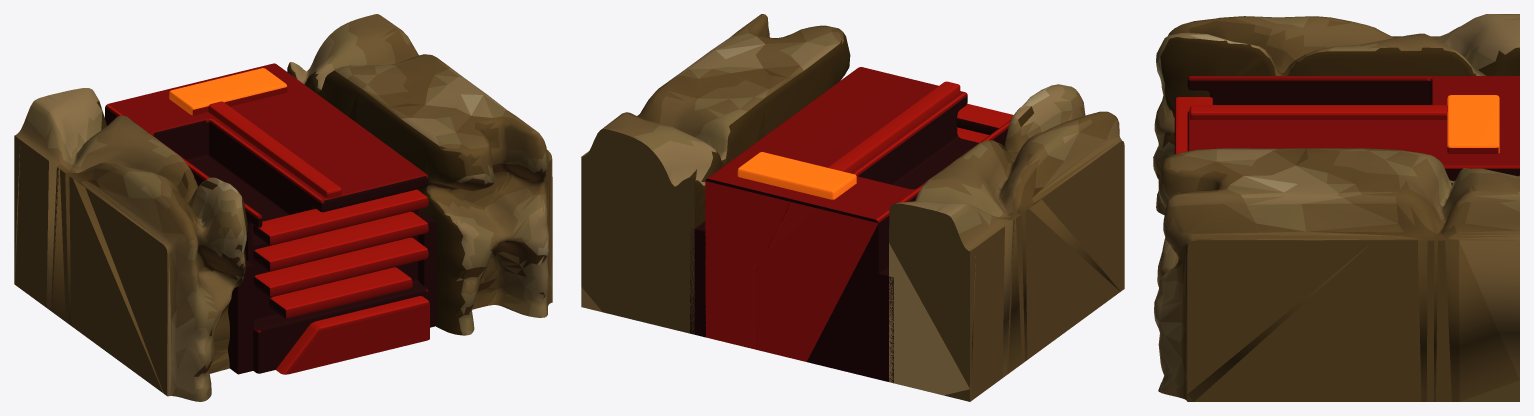
Rendered from ixm_wall_slot_mid.glb.
The picture shows the model from 3 angles, left to right: view 1: azimuth 30°, elevation 25°; view 2: azimuth 150°, elevation 25°; view 3: azimuth 270°, elevation 25°; orthographic projection. The views are drawn at different scales.
Visible parts, largest first — view 1: ixm_wall_slot_mid; view 2: ixm_wall_slot_mid; view 3: ixm_wall_slot_mid.
Part boxes in pixels (x1=…): ixm_wall_slot_mid: x1=14, y1=14, x2=552, y2=401; ixm_wall_slot_mid: x1=581, y1=14, x2=1124, y2=401; ixm_wall_slot_mid: x1=1153, y1=14, x2=1519, y2=401.
Bounding box in the file's own units: 24 × 11.02 × 18.22.
